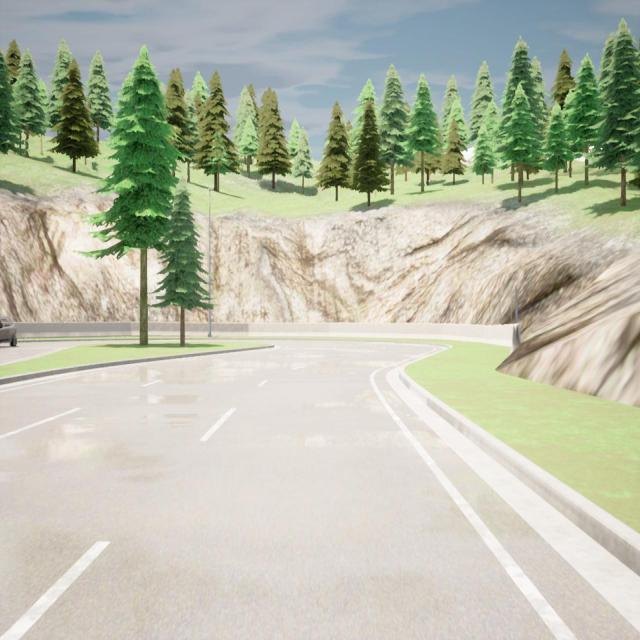Vehicle: (0, 317, 17, 347)
